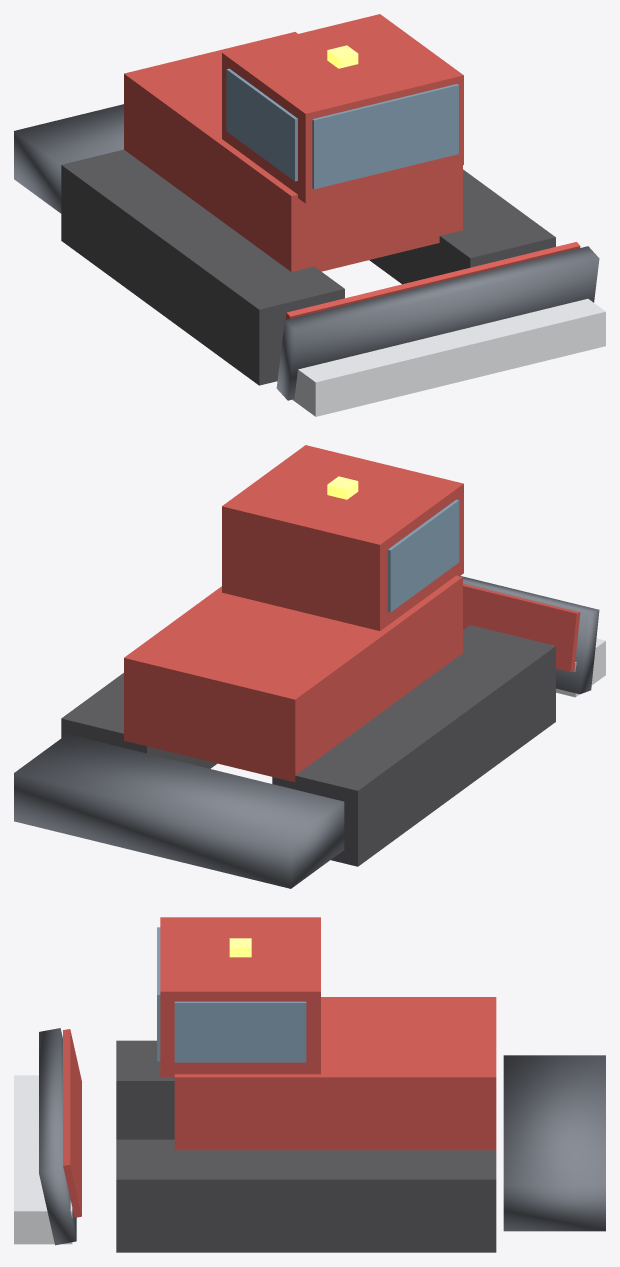
File: snowcat.glb
The picture shows the model from 3 angles, top to bottom: view 1: azimuth 30°, elevation 25°; view 2: azimuth 150°, elevation 25°; view 3: azimuth 270°, elevation 25°; orthographic projection. The views are drawn at different scales.
Visible parts, largest first — view 1: snowcat; view 2: snowcat; view 3: snowcat.
Part boxes in pixels (x1=…): snowcat: x1=14, y1=14, x2=605, y2=416; snowcat: x1=14, y1=445, x2=605, y2=888; snowcat: x1=14, y1=917, x2=605, y2=1252.
Bounding box in the file's own units: 4.6 × 3.62 × 8.1.
